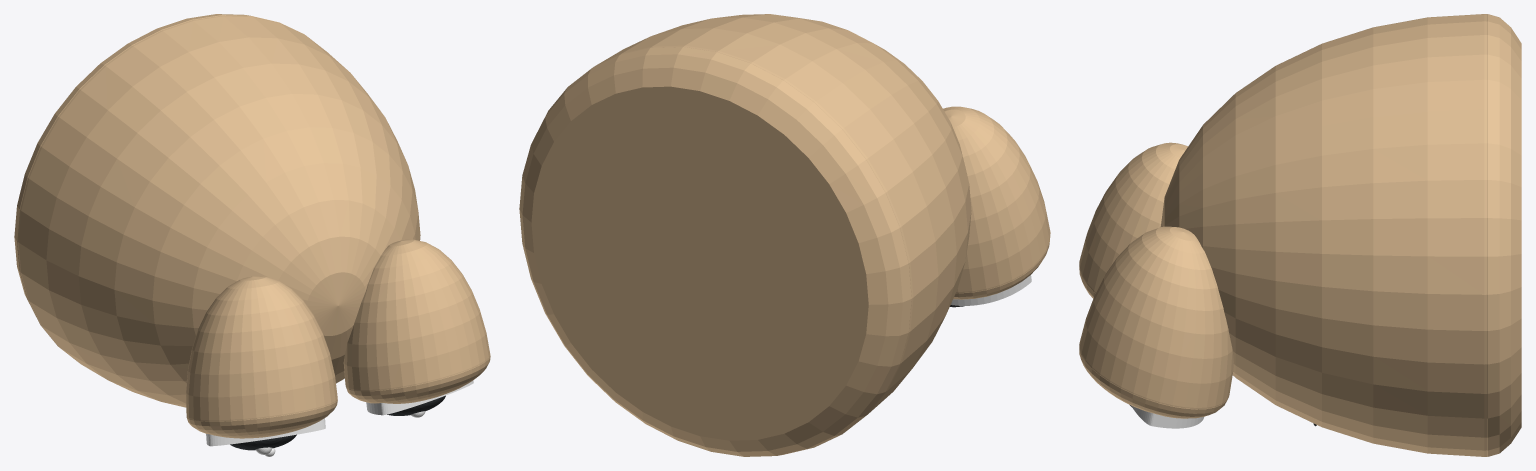
The model's file is tinker.obj.
The picture shows the model from 3 angles, left to right: view 1: azimuth 30°, elevation 25°; view 2: azimuth 150°, elevation 25°; view 3: azimuth 270°, elevation 25°; orthographic projection. The views are drawn at different scales.
Visible parts, largest first — view 1: obj_11, obj_2, obj_4, obj_1, obj_3, obj_5; view 2: obj_11, obj_2, obj_1; view 3: obj_11, obj_4, obj_2, obj_3.
Part boxes in pixels (x1,y1,x2,y2): obj_11: (14,14,420,407); obj_2: (186,276,337,438); obj_4: (343,239,490,403); obj_1: (206,418,325,446); obj_3: (366,380,473,415); obj_5: (230,434,296,450); obj_11: (519,14,971,456); obj_2: (943,106,1050,299); obj_1: (950,275,1031,305); obj_11: (1160,14,1521,456); obj_4: (1079,226,1233,418); obj_2: (1079,142,1187,298); obj_3: (1131,405,1203,428).
Bounding box in the file's own units: 45 × 44 × 44.
